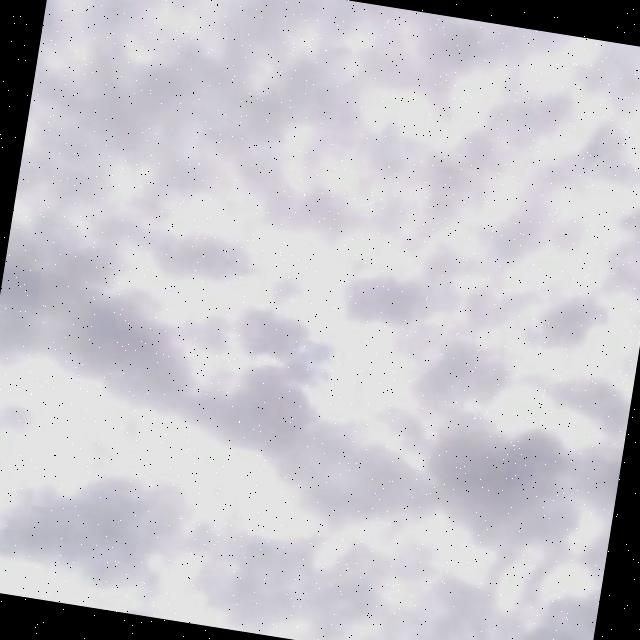Ac: (1, 27, 640, 640)
